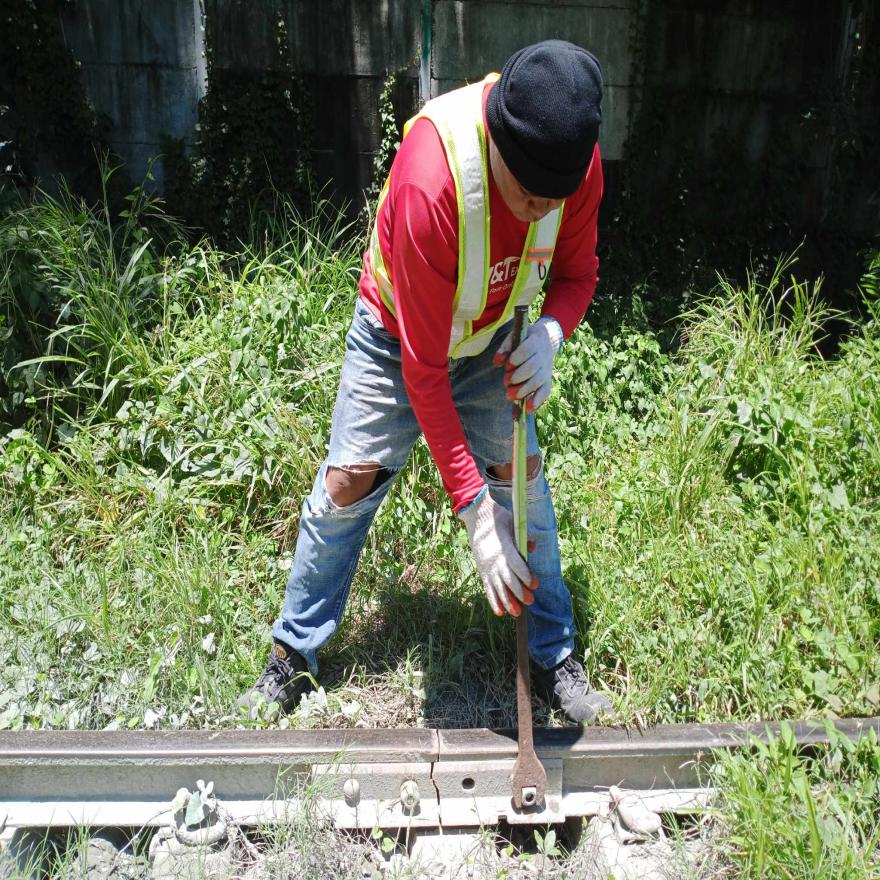railway-gap: (418, 762, 462, 838), (418, 720, 459, 764)
